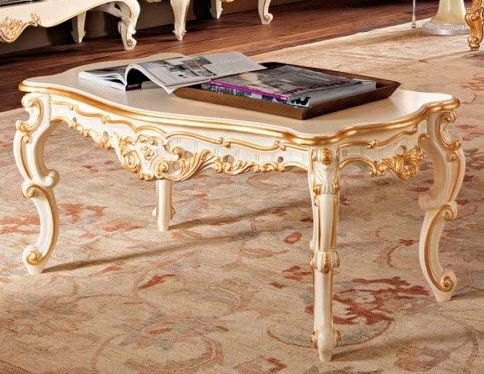Carving Table: (23, 54, 478, 367)
